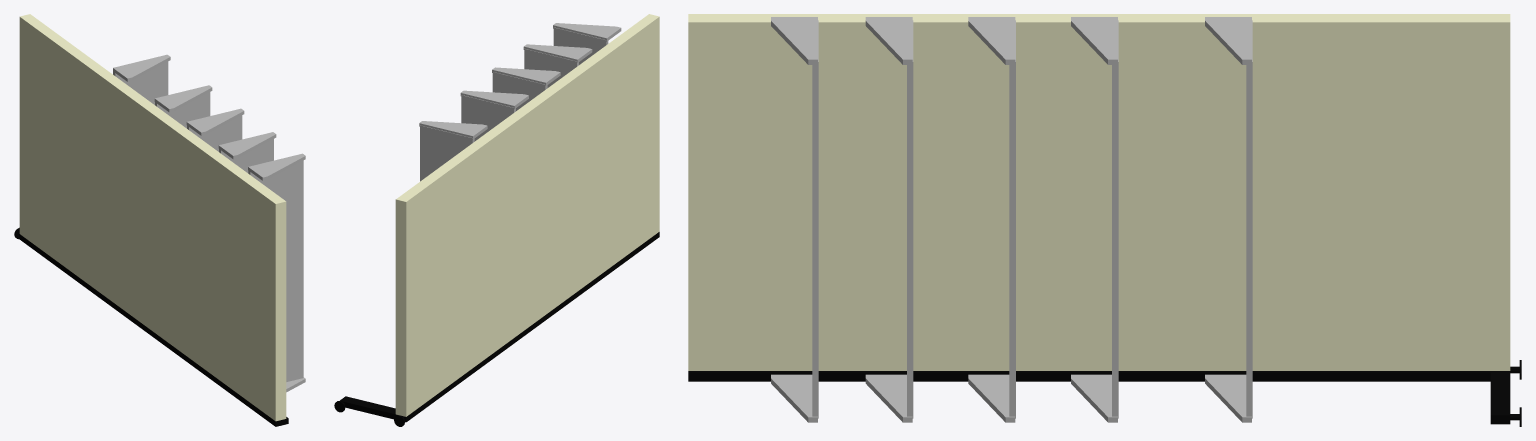
Rendered from nil_link_mesh.dae.
3 renders of one model, left to right at view 1: azimuth 30°, elevation 25°; view 2: azimuth 150°, elevation 25°; view 3: azimuth 270°, elevation 25°, orthographic. The views are drawn at different scales.
Parts seen in each view (by area): view 1: nil_link (×7); view 2: nil_link (×8); view 3: nil_link (×8).
Part boxes in pixels (<box>): nil_link (×7): <box>19,14,305,426</box>; nil_link (×8): <box>340,14,659,422</box>; nil_link (×8): <box>688,14,1510,424</box>.
Bounding box in the file's own units: 0.4 × 1.24 × 2.54.
